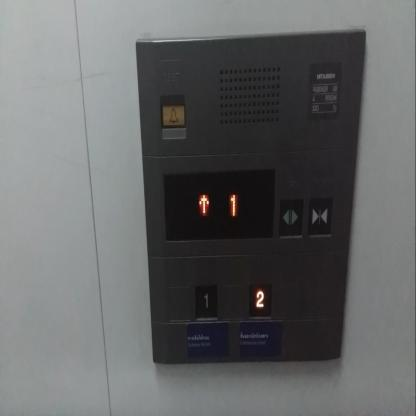1: (193, 282, 219, 321)
2: (247, 281, 273, 320)
alarm: (161, 101, 185, 128)
close: (305, 194, 333, 239)
led: (162, 166, 275, 244)
open: (277, 196, 304, 238)
